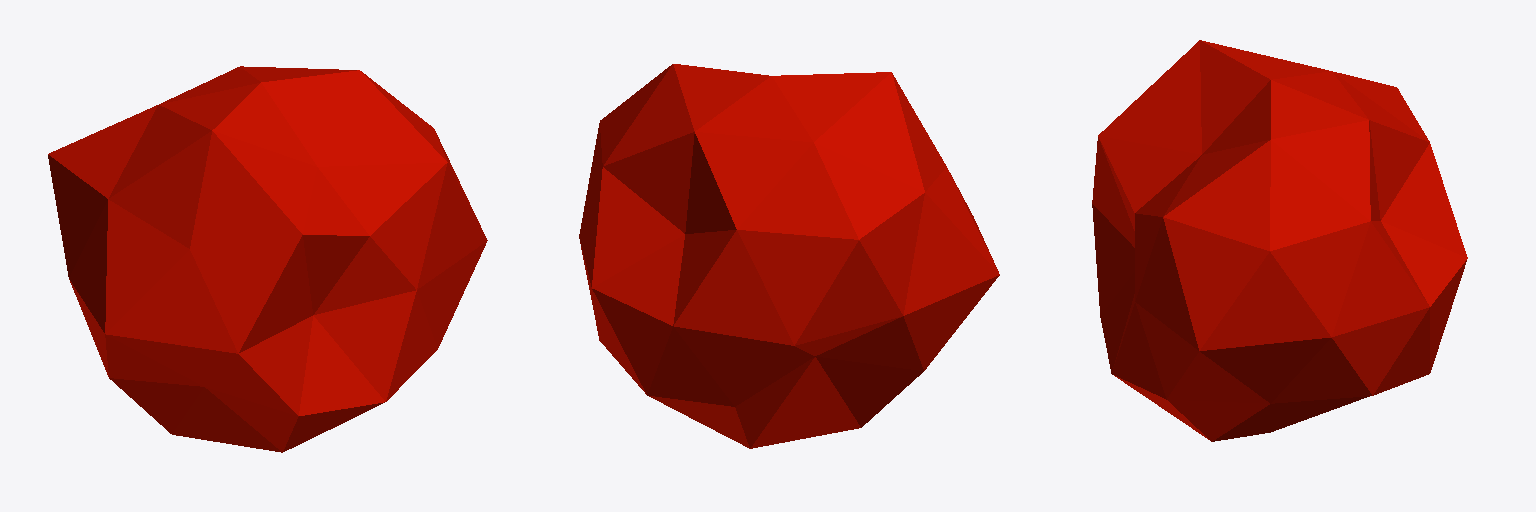
File: asteroides2.obj
3 views of the same model, side by side, from view 1: azimuth 30°, elevation 25°; view 2: azimuth 150°, elevation 25°; view 3: azimuth 270°, elevation 25° (orthographic).
Visible parts, largest first — view 1: Icosphere; view 2: Icosphere; view 3: Icosphere.
Part boxes in pixels (left/top/right/bottom): Icosphere: left=48, top=66, right=487, bottom=452; Icosphere: left=579, top=64, right=999, bottom=448; Icosphere: left=1092, top=40, right=1467, bottom=441.
Size of the model in its own units: 2.24 by 1.98 by 1.91.